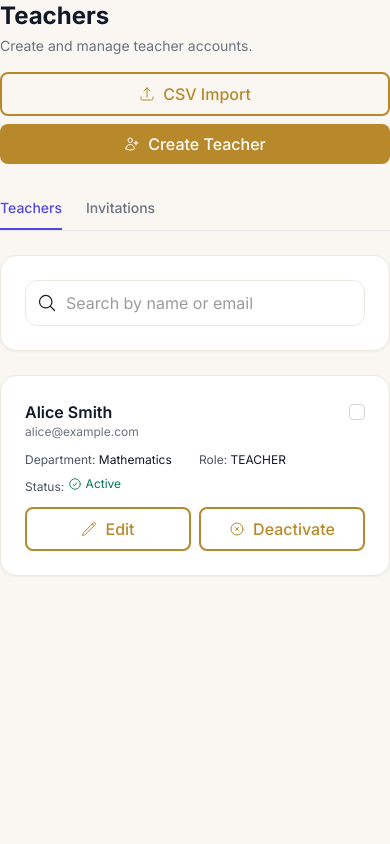
Test: TeachersPage › deactivate teacher › clicking Deactivate opens ConfirmDialog with teacher name
The width and height of the screenshot is (390, 844).
// Mobile card Deactivate button
Step 1. Click the button "Deactivate" → (282, 529), box top-left (199, 507), bottom-right (365, 551)
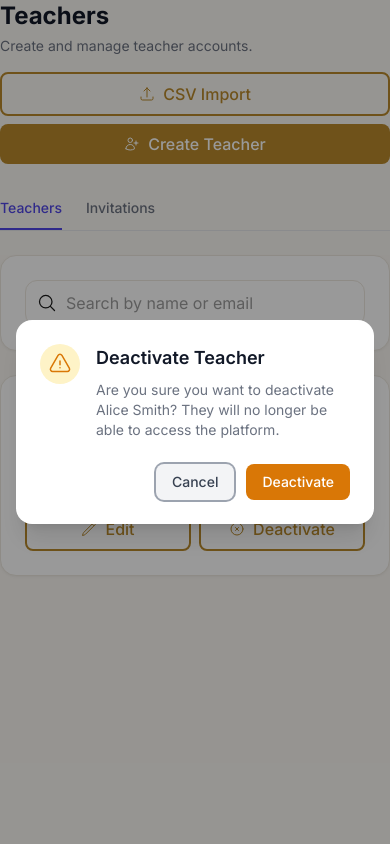
Check: the text "deactivate Alice Smith" is shown, box top-left (96, 381), bottom-right (334, 438)
